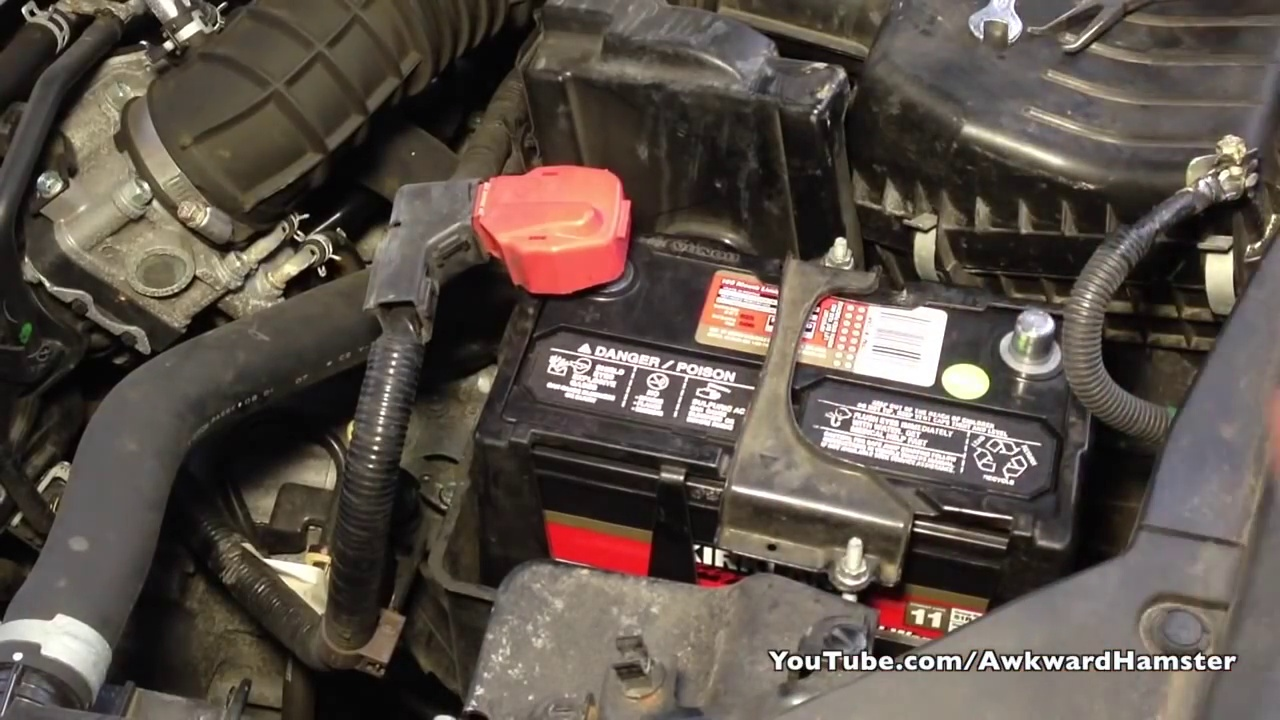battery: (477, 205, 1086, 554)
neg_disconnected: (959, 279, 1086, 403)
pos_connected: (437, 139, 644, 300)
